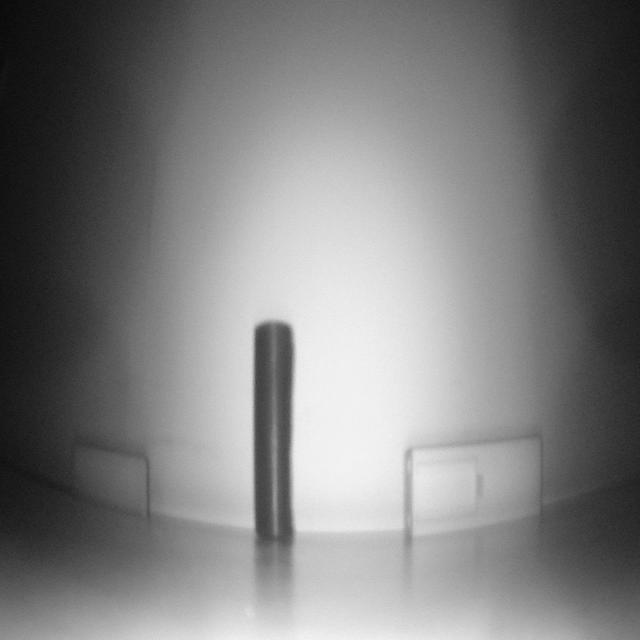targets: (404, 428, 543, 542), (254, 316, 292, 541), (68, 442, 154, 524)
